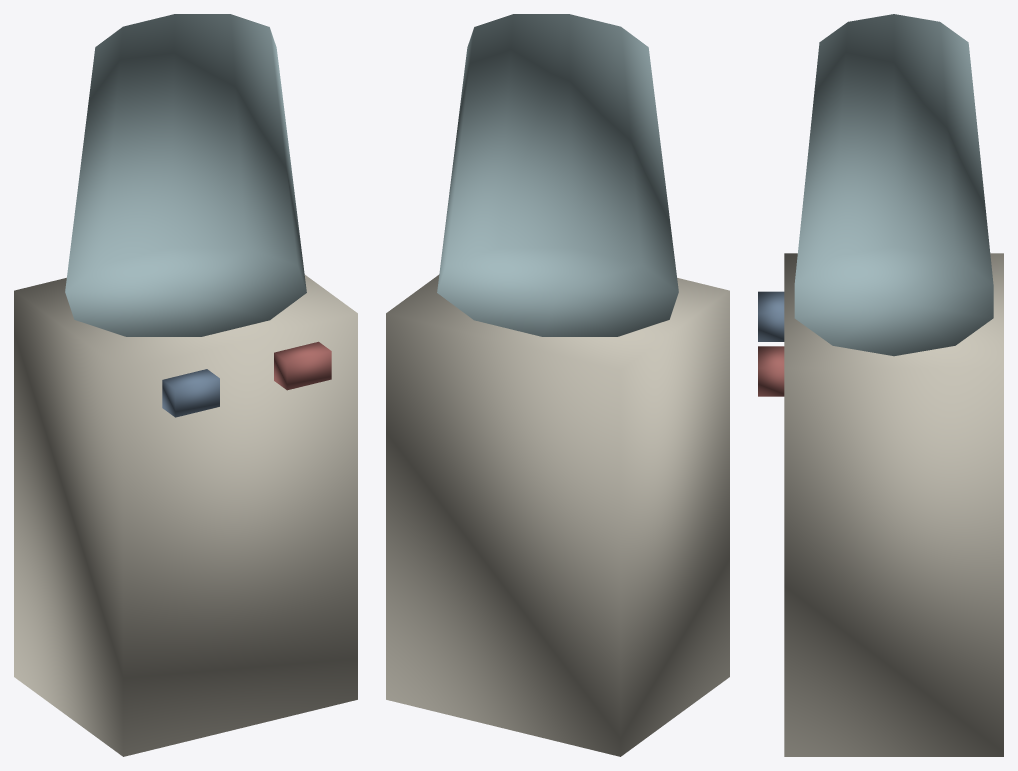
File: water_cooler__wide.glb
3 views of the same model, side by side, from view 1: azimuth 30°, elevation 25°; view 2: azimuth 150°, elevation 25°; view 3: azimuth 270°, elevation 25° (orthographic).
Parts seen in each view (by area): view 1: world; view 2: world; view 3: world.
Boxes of the visible parts, x1,y1,x2,y2 form: world: [14, 14, 357, 756]; world: [386, 14, 729, 756]; world: [758, 14, 1003, 756].
Size of the model in its own units: 0.5208 by 1.36 by 0.47.
